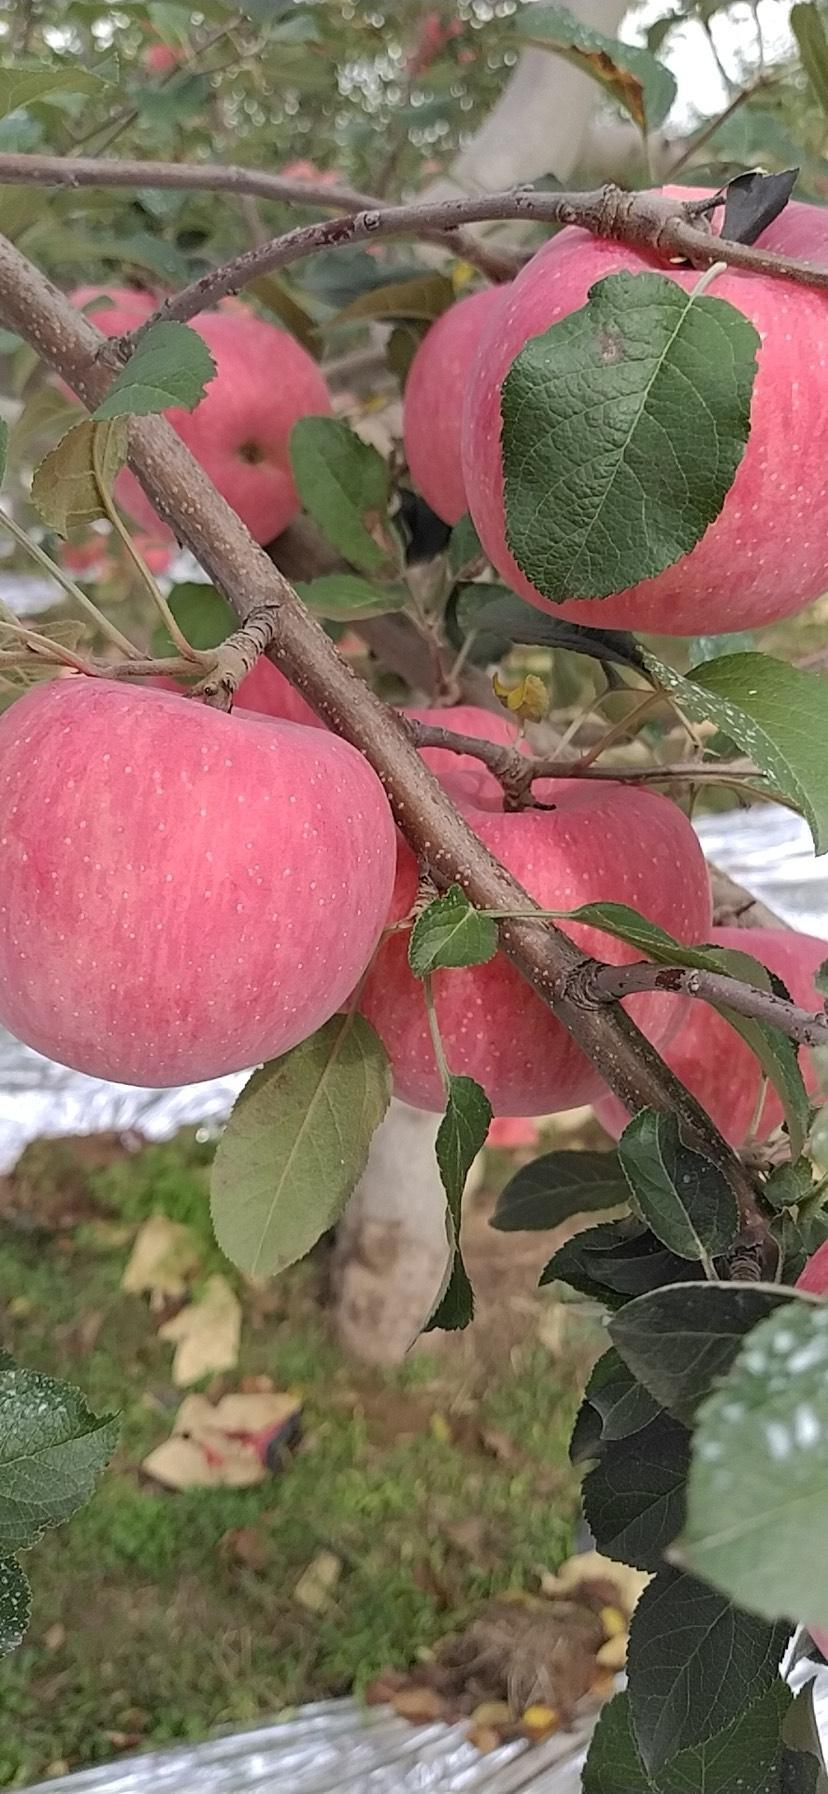apple: (1, 635, 393, 1089), (467, 246, 828, 628), (360, 752, 698, 1114)
